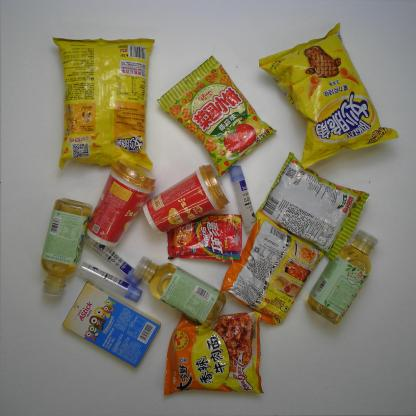Candy: (160, 201, 242, 266)
Dessert: (61, 279, 169, 367)
Drink: (304, 223, 393, 328), (132, 252, 233, 332), (38, 184, 91, 314)
Instant Drink: (145, 152, 232, 242), (86, 153, 157, 253)
Instant Noodles: (154, 303, 290, 403), (219, 207, 319, 332)
Puffed Food: (258, 19, 406, 174), (43, 23, 155, 176), (153, 55, 282, 174), (254, 148, 374, 255)
Stationery: (76, 225, 149, 287), (73, 255, 145, 305), (226, 162, 261, 236)
